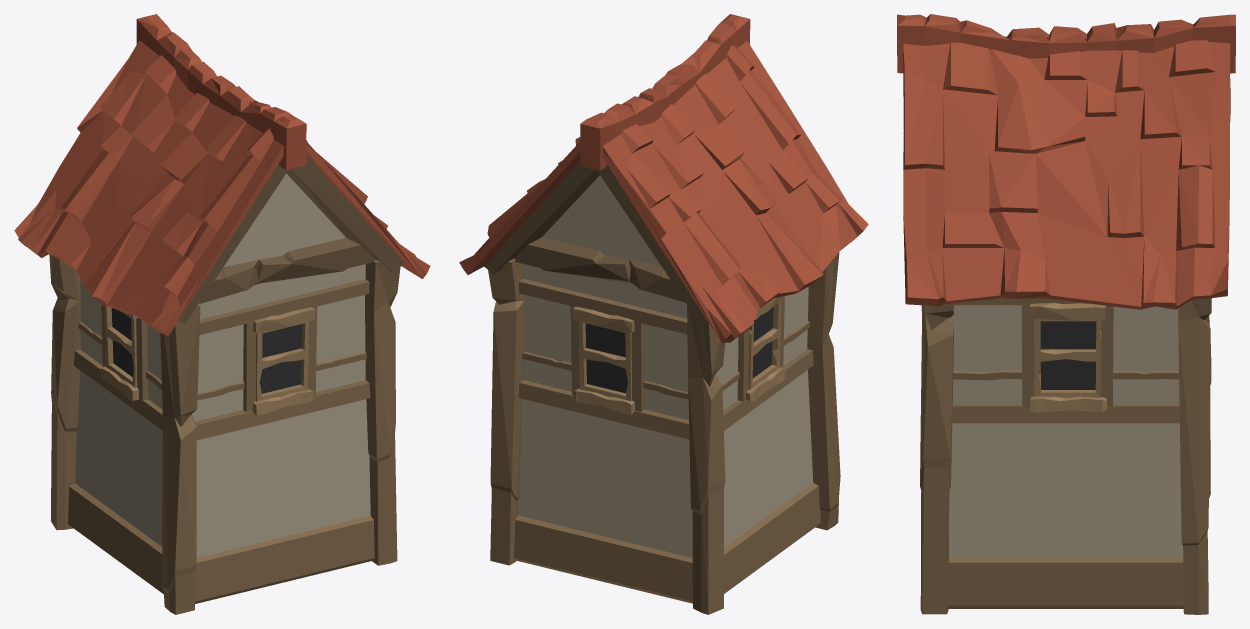
File: SM_Bld_House_RoomTall_01.gltf
The picture shows the model from 3 angles, left to right: view 1: azimuth 30°, elevation 25°; view 2: azimuth 150°, elevation 25°; view 3: azimuth 270°, elevation 25°; orthographic projection. The views are drawn at different scales.
Visible parts, largest first — view 1: SM_Bld_House_RoomTall_01; view 2: SM_Bld_House_RoomTall_01; view 3: SM_Bld_House_RoomTall_01.
Boxes of the visible parts, box(x1,y1,x2,y2) form: SM_Bld_House_RoomTall_01: box(14, 14, 430, 614); SM_Bld_House_RoomTall_01: box(459, 14, 868, 614); SM_Bld_House_RoomTall_01: box(897, 14, 1235, 614).
Bounding box in the file's own units: 3.6 × 5.69 × 3.26.
Materials: 1 (1 with a texture image).
